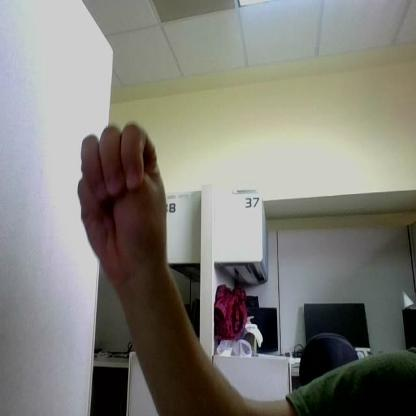M: (79, 123, 165, 277)
